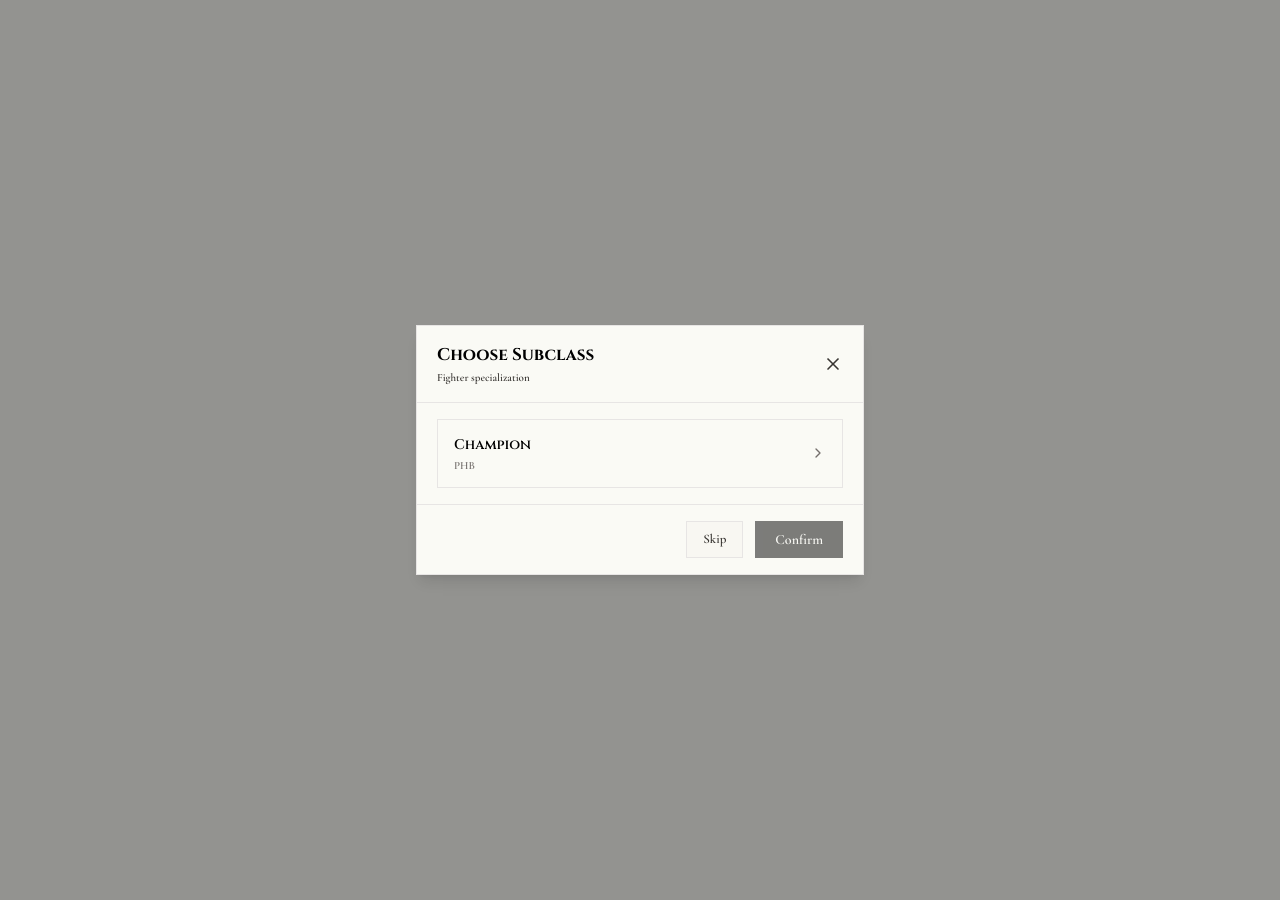
Scenario: SubclassModal › enables confirm only after selection
Expected: the button "Confirm" is disabled, [755,520,843,558]
Click the text "Champion" at (492,444), box [454,435,531,454]
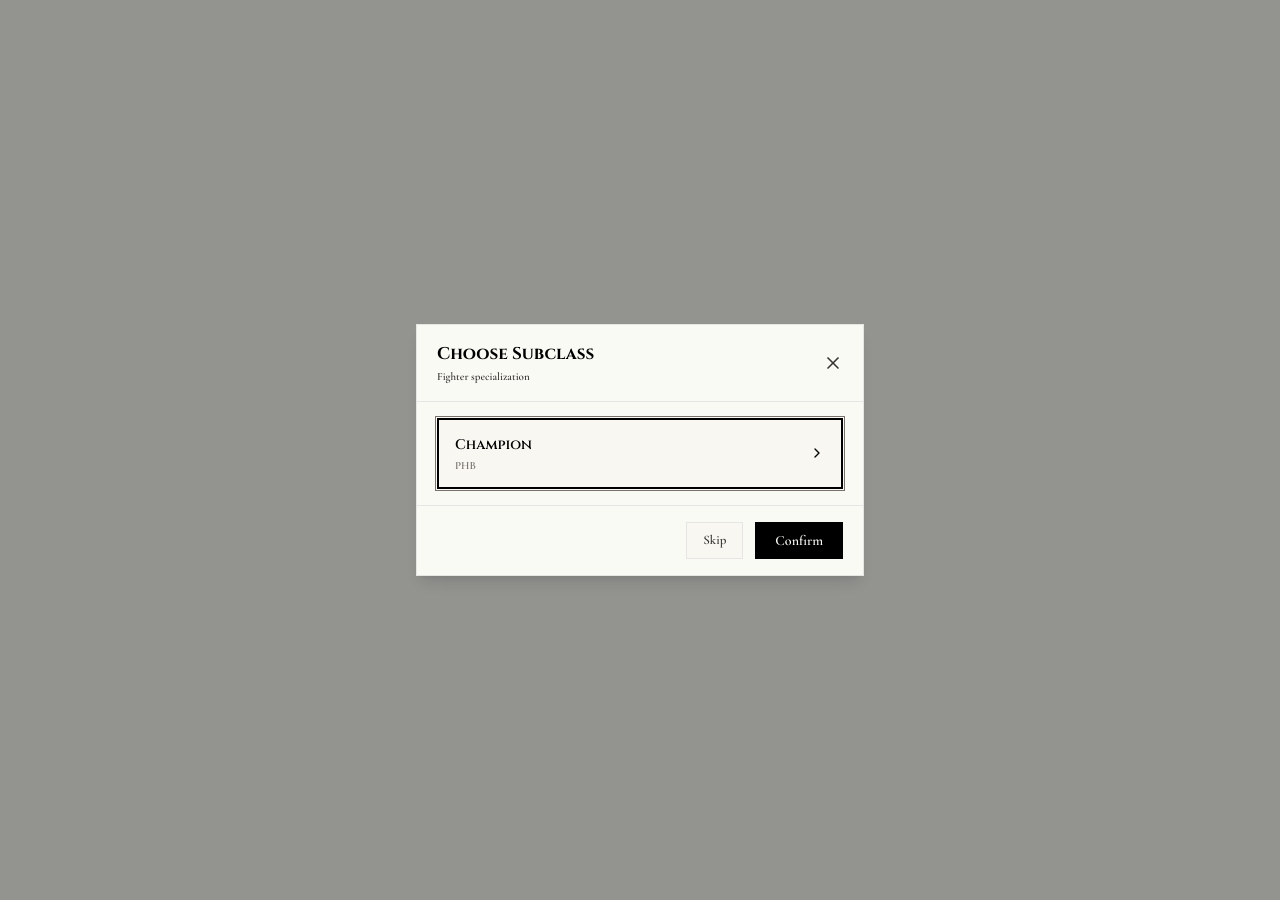
Expected: the button "Confirm" is enabled, [755,522,843,559]
